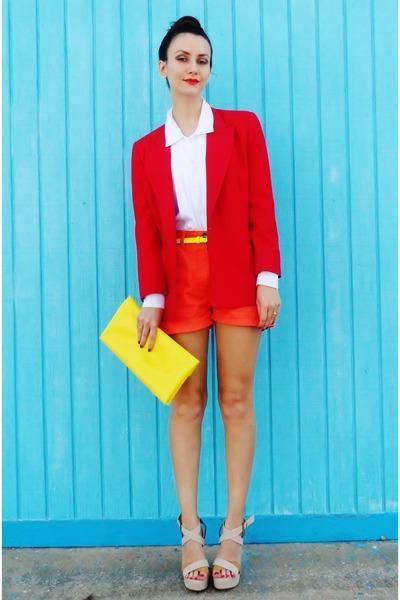Shorts: (158, 228, 273, 338)
jacket: (128, 105, 285, 304)
short sleeve shirt: (161, 97, 221, 245)
